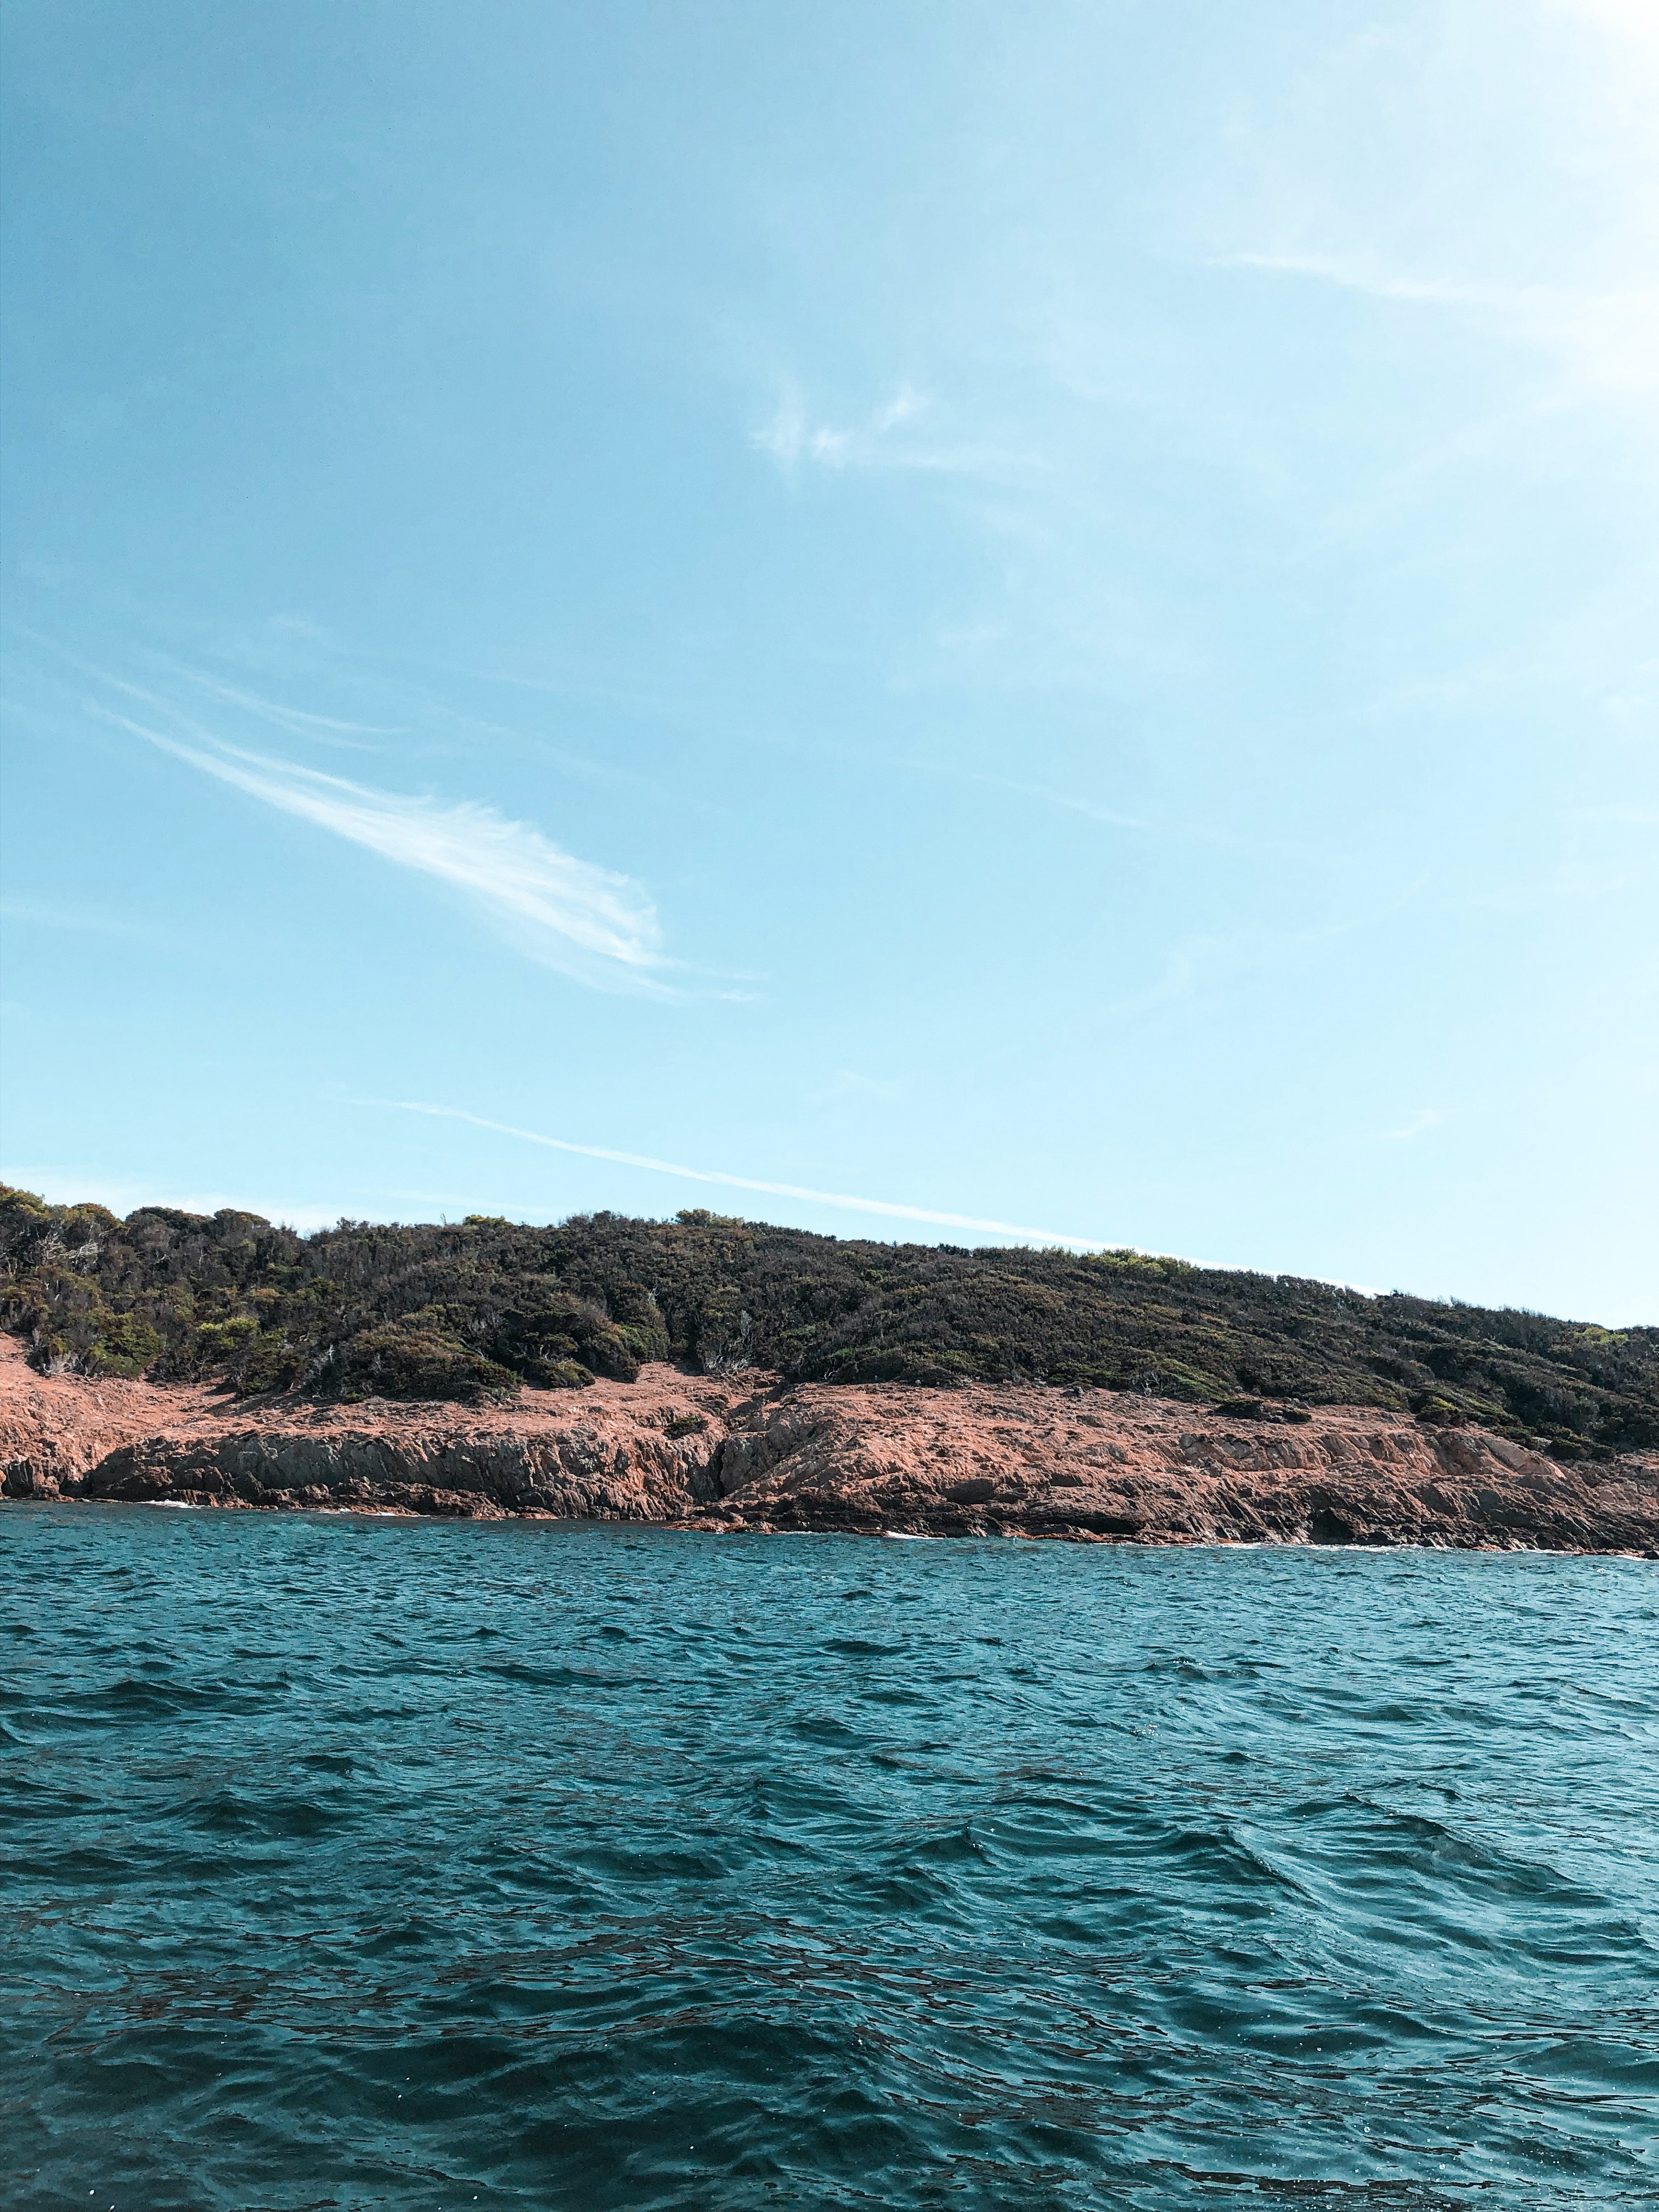Cirrus: (51, 604, 784, 1045), (1171, 108, 1659, 516), (685, 275, 1140, 613)
